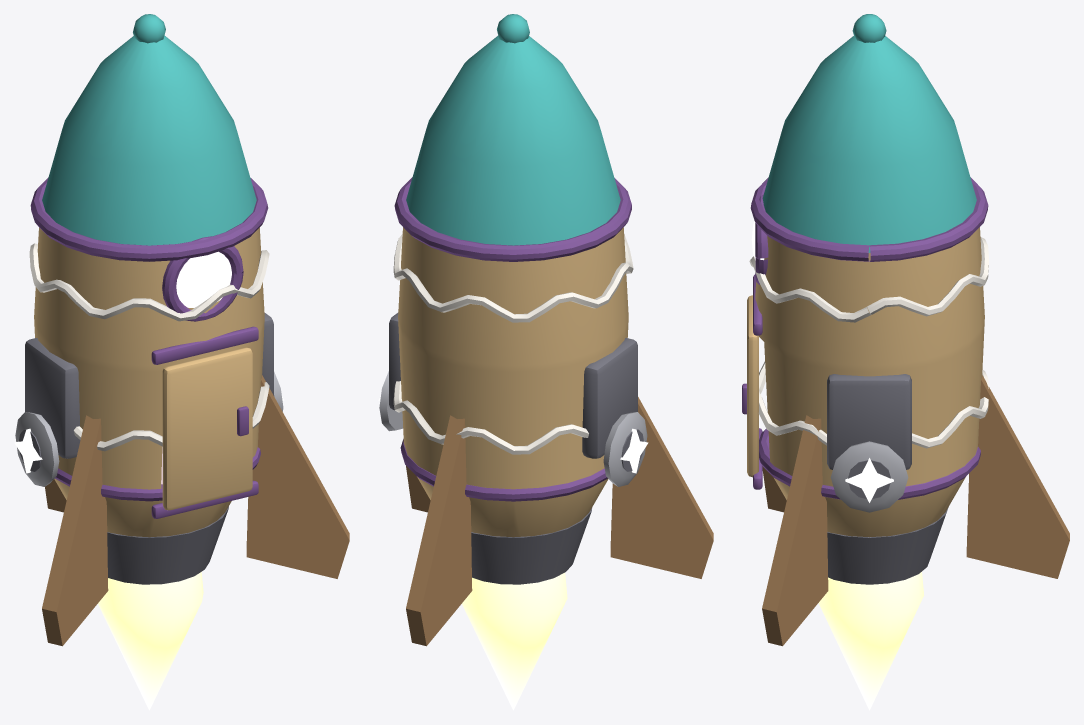
The model's file is SPY_Rocket_GingerbreadVillage.fbx.
3 views of the same model, side by side, from view 1: azimuth 30°, elevation 25°; view 2: azimuth 150°, elevation 25°; view 3: azimuth 270°, elevation 25° (orthographic).
Parts seen in each view (by area): view 1: Body, Hatch, Flame, Slot_00_Empty, Slot_00_Filled; view 2: Body, Flame, Slot_00_Empty, Slot_01_Empty, Slot_00_Filled; view 3: Body, Flame, Slot_01_Empty, Hatch, Slot_01_Filled.
Part boxes in pixels (bbox=[...]): Body: bbox=[25, 14, 349, 646]; Hatch: bbox=[162, 347, 252, 510]; Flame: bbox=[98, 572, 203, 710]; Slot_00_Empty: bbox=[15, 412, 59, 486]; Slot_00_Filled: bbox=[14, 428, 42, 473]; Body: bbox=[389, 14, 713, 646]; Flame: bbox=[462, 572, 567, 710]; Slot_00_Empty: bbox=[603, 412, 647, 486]; Slot_01_Empty: bbox=[379, 371, 403, 431]; Slot_00_Filled: bbox=[620, 428, 648, 473]; Body: bbox=[749, 14, 1069, 646]; Flame: bbox=[818, 572, 924, 710]; Slot_01_Empty: bbox=[830, 441, 908, 512]; Hatch: bbox=[742, 295, 758, 477]; Slot_01_Filled: bbox=[845, 458, 893, 502].
Size of the model in its own units: 2.93 by 6.32 by 2.7.
